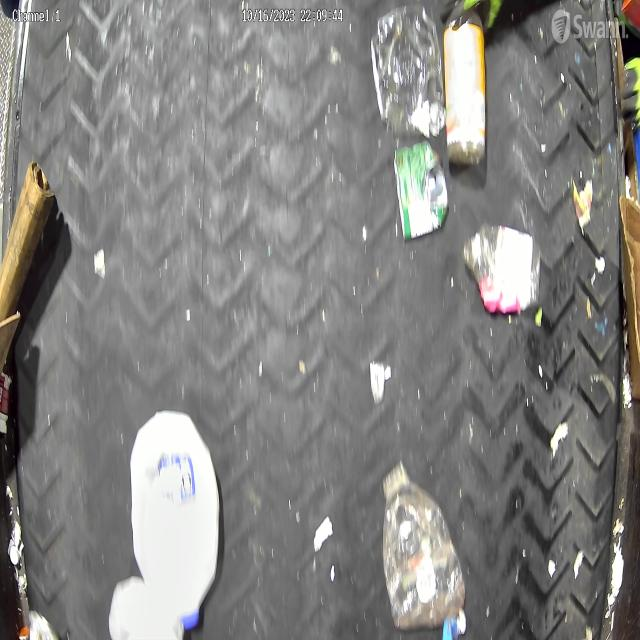can: (394, 143, 450, 239)
milk_jug: (130, 411, 220, 630)
plastic_bottle: (383, 462, 468, 637), (370, 1, 446, 136), (462, 224, 542, 317)
